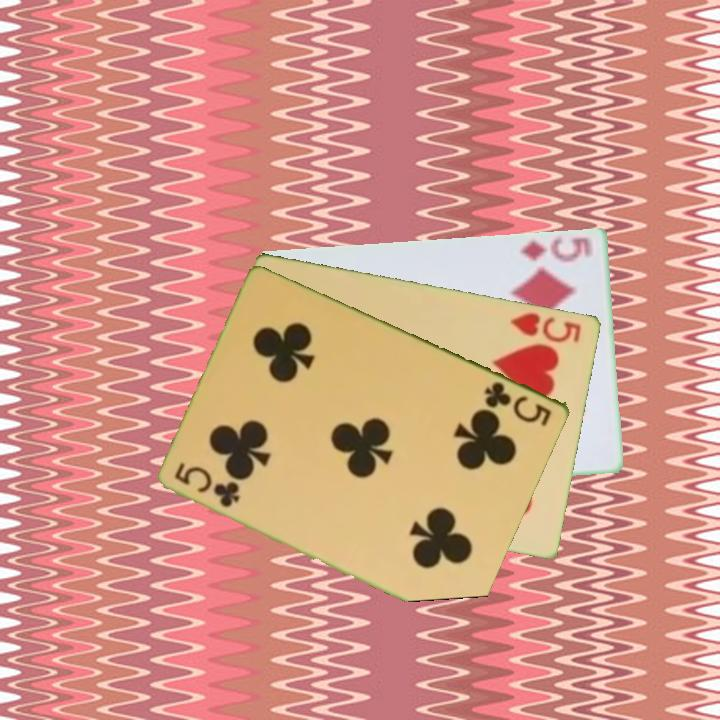5c: (481, 378, 555, 430), (171, 459, 243, 511)
5d: (517, 232, 597, 264)
5h: (507, 308, 585, 345)
